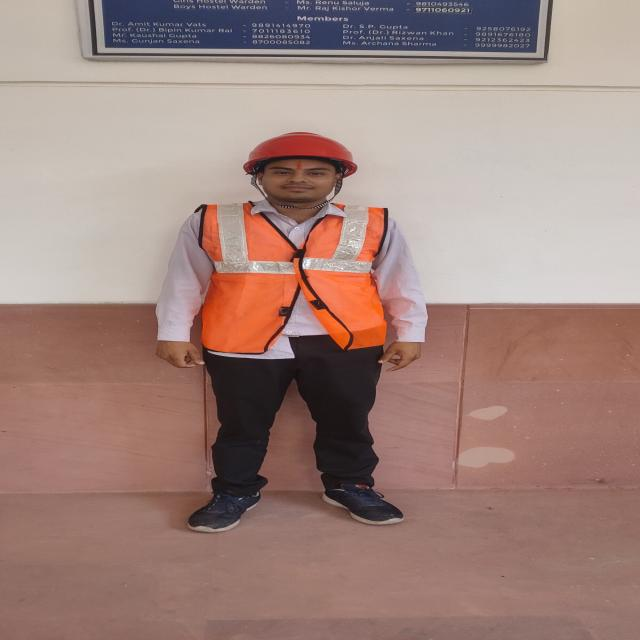safe: (158, 132, 427, 531)
